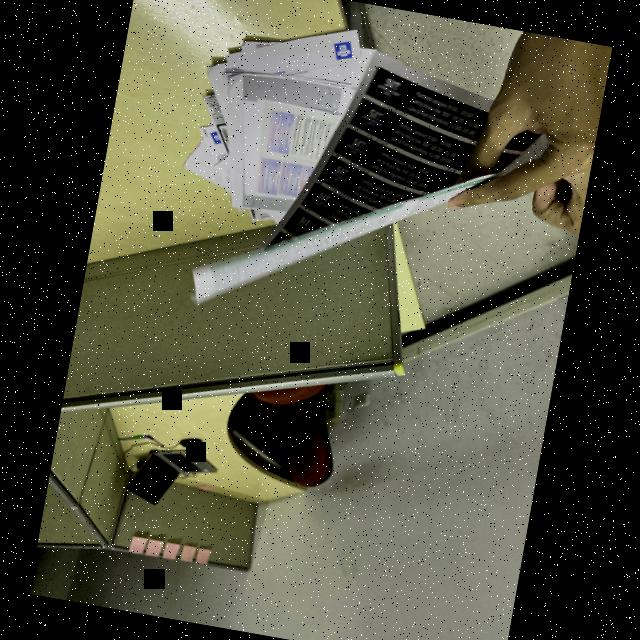reuseable_paper: (184, 26, 558, 364), (174, 1, 378, 246)
